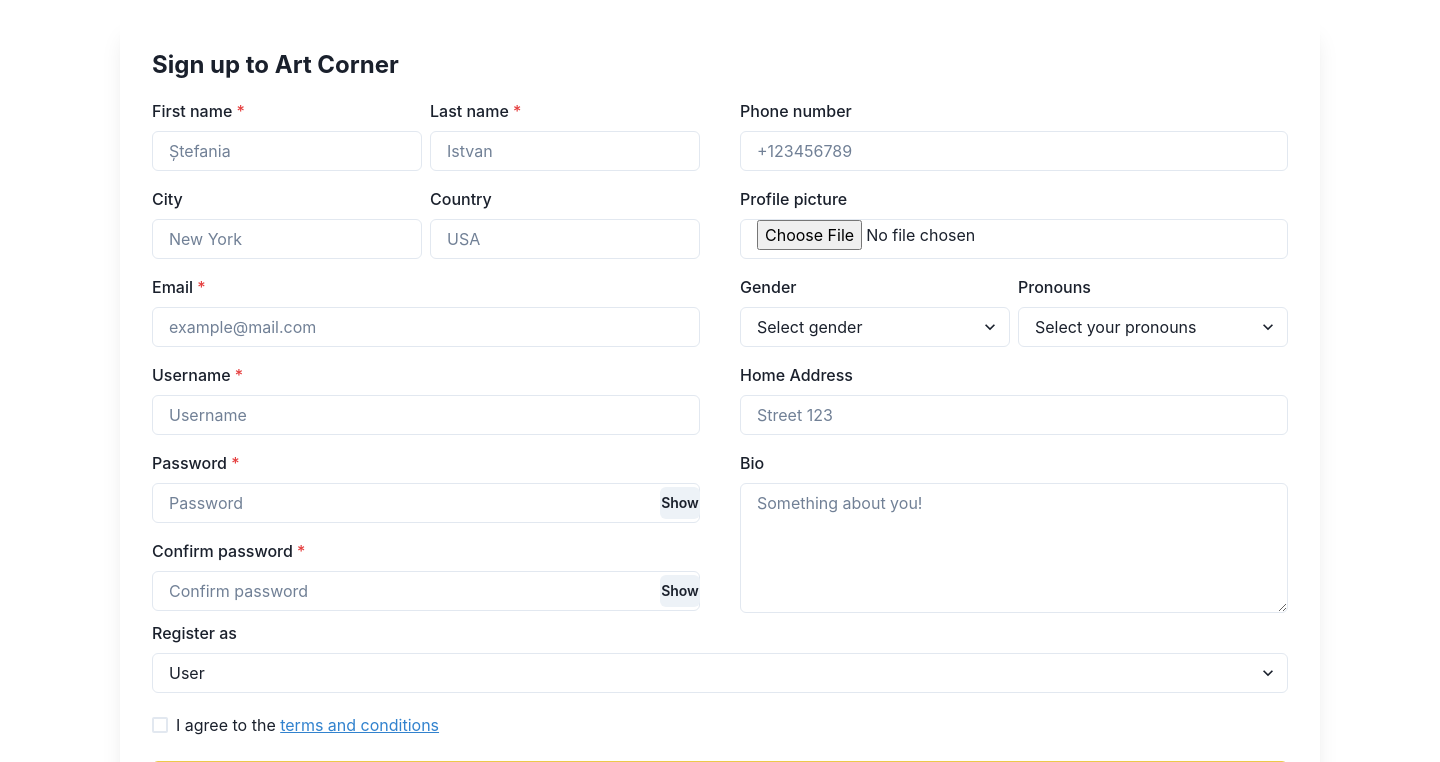
Test: SignupCard › should display at least one validation error for weak password
The width and height of the screenshot is (1440, 762).
In the field labelled "First name *": (287,151) [152,131,422,171], type "Test"
In the field labelled "Last name *": (565,151) [430,131,700,171], type "User"
In the field labelled "Username *": (426,415) [152,395,700,435], type "testuser"
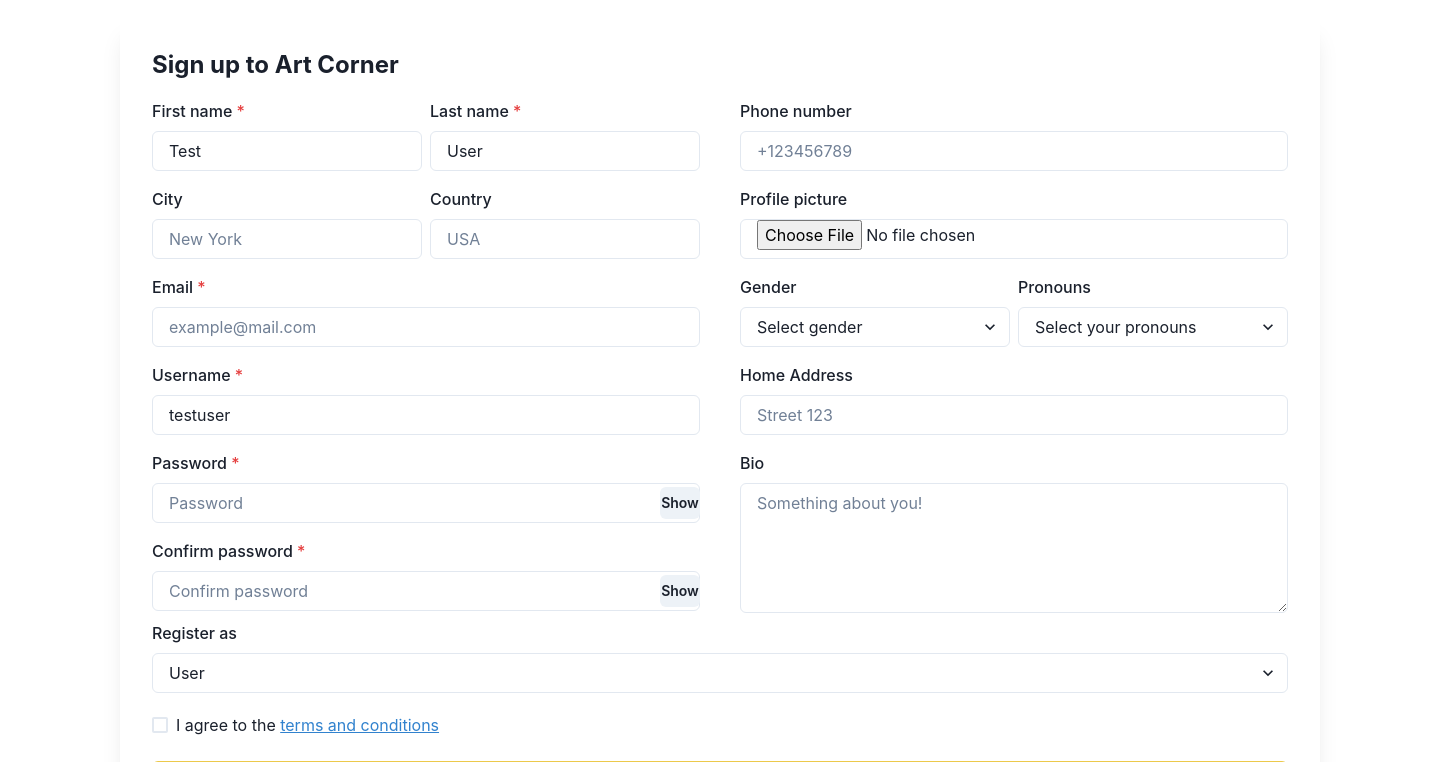
In the field labelled "Email *": (426,327) [152,307,700,347], type "test@example.com"
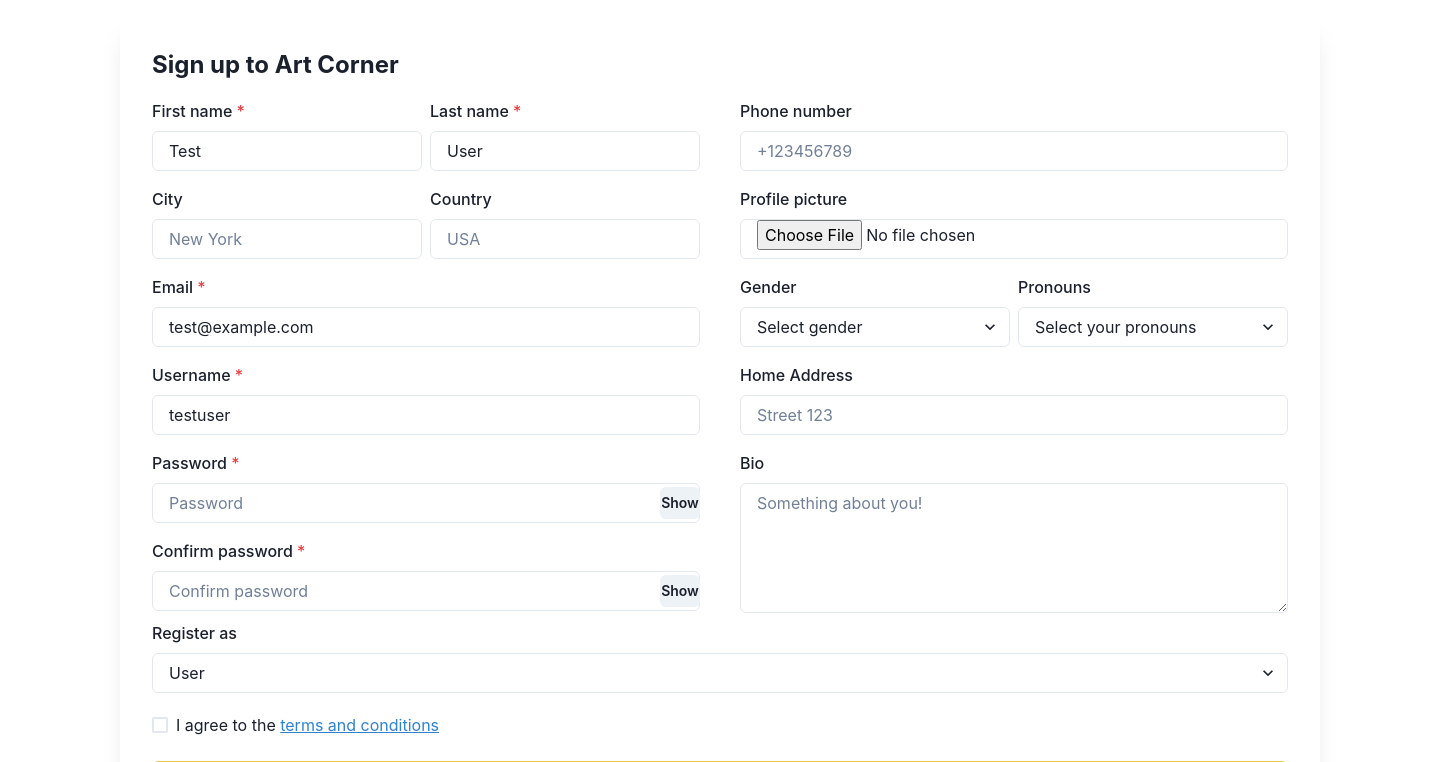
In the password field labelled "Password *": (426,503) [152,483,700,523], type "short"
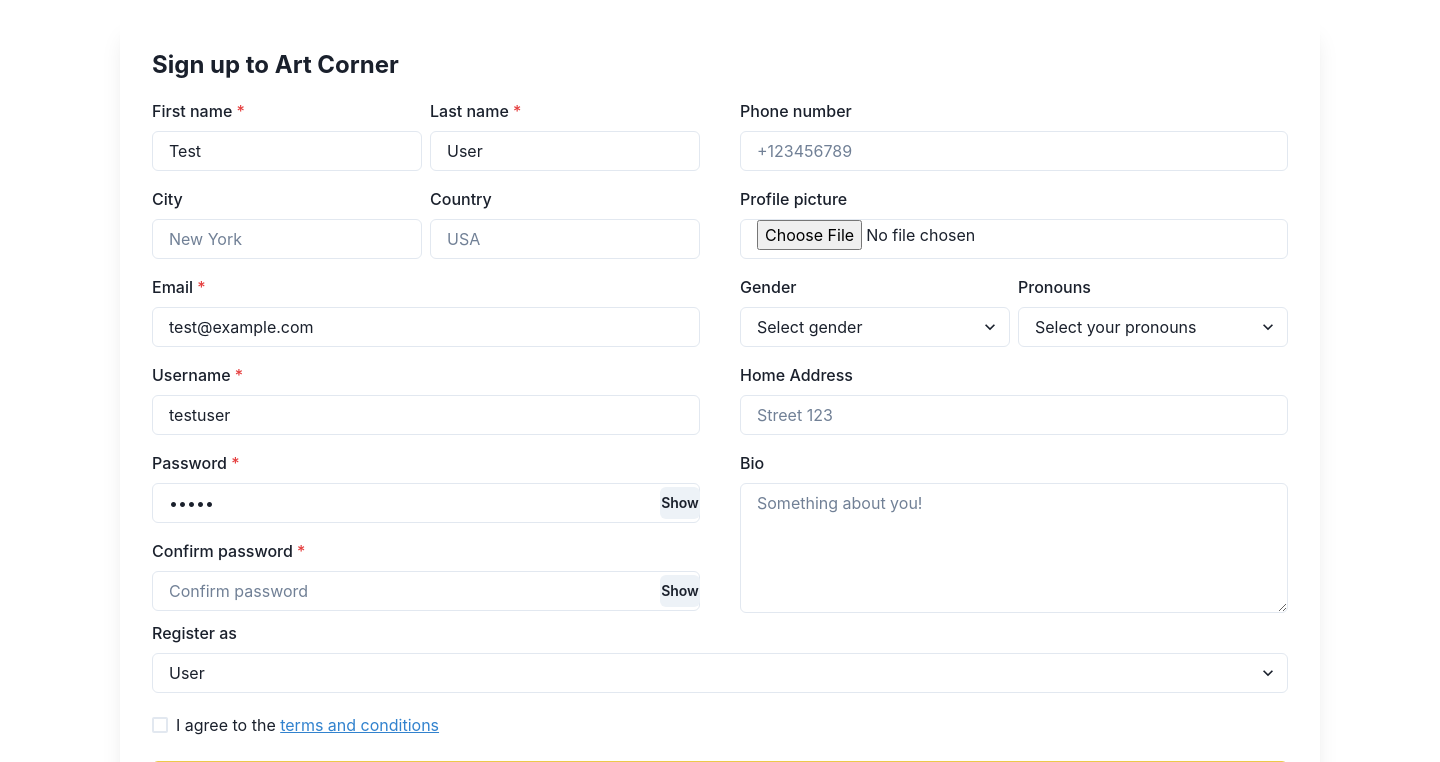
In the password field labelled "Confirm password *": (426,591) [152,571,700,611], type "short"
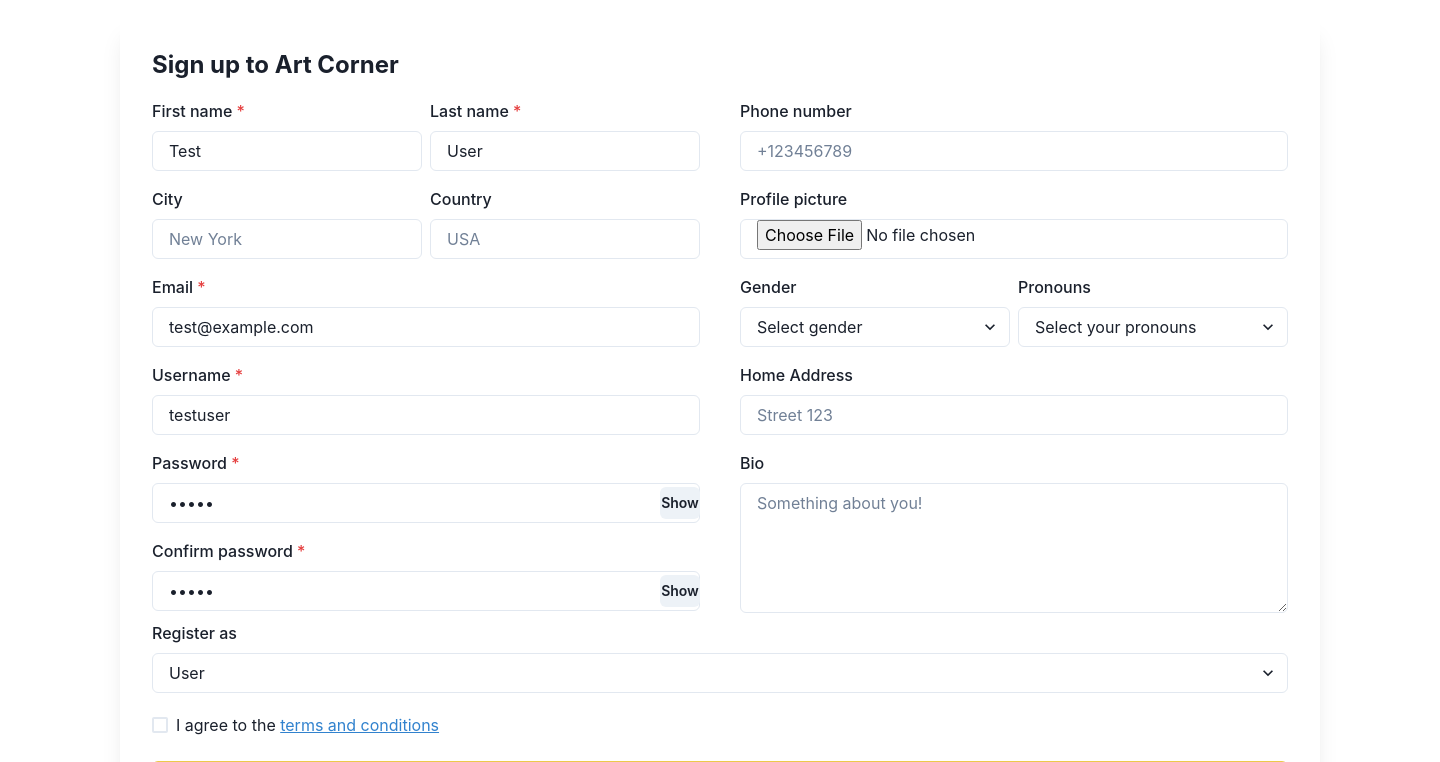
Click the checkbox labelled "I agree to the terms and conditions": (296,725) [152,713,439,737]
(page scrolled)
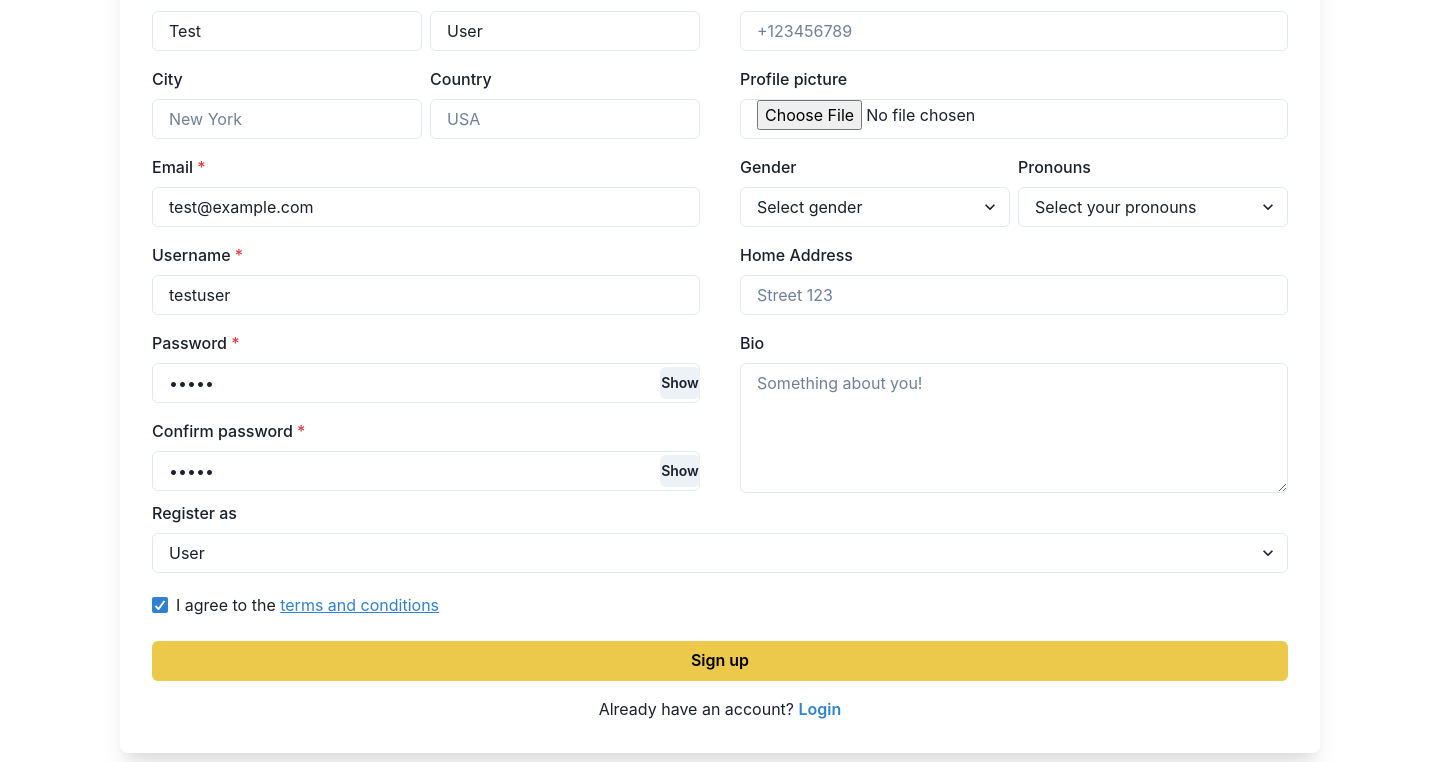
Click the button "Sign up": (720,661) [152,641,1288,681]
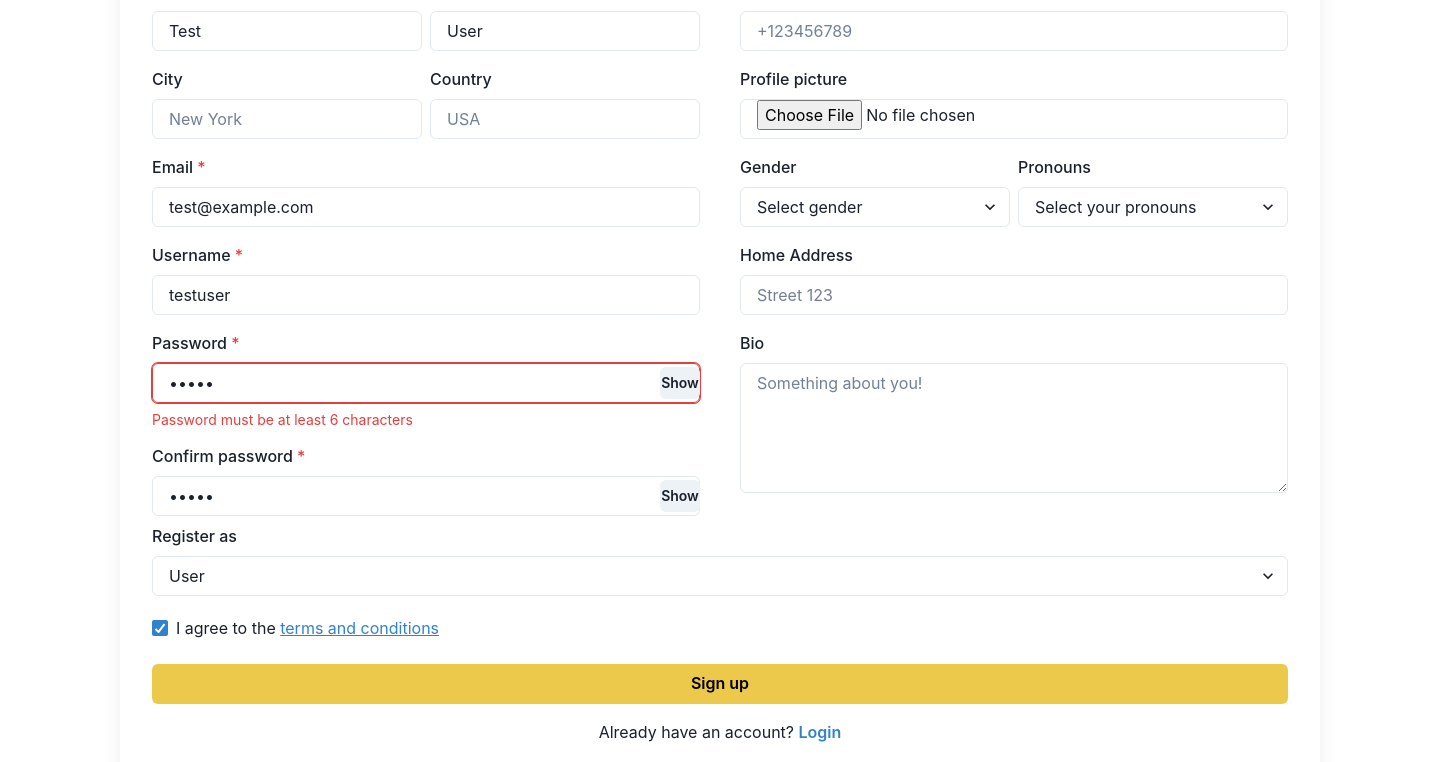
Now the text "Password must be at least 6 characters" is shown, box [152,411,413,428]
